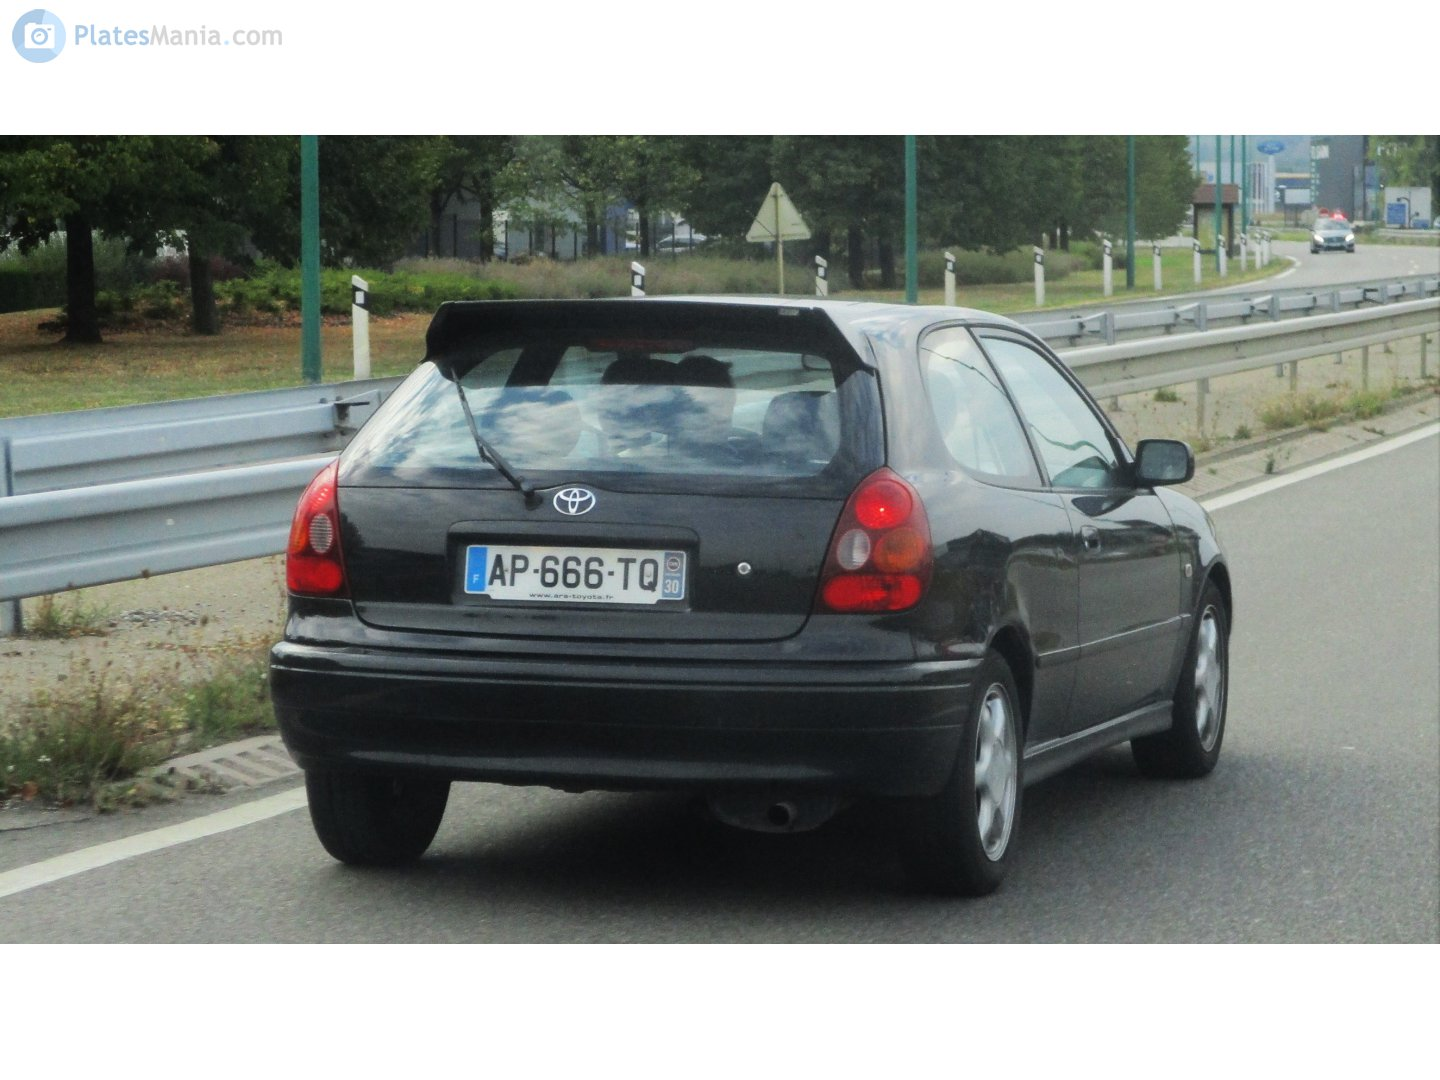licence plate: (462, 541, 687, 609)
